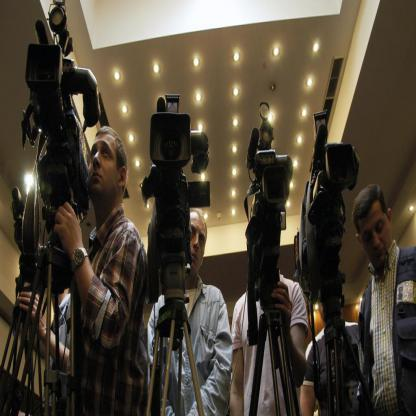face: (360, 203, 391, 270), (89, 134, 118, 200), (185, 217, 207, 275)
